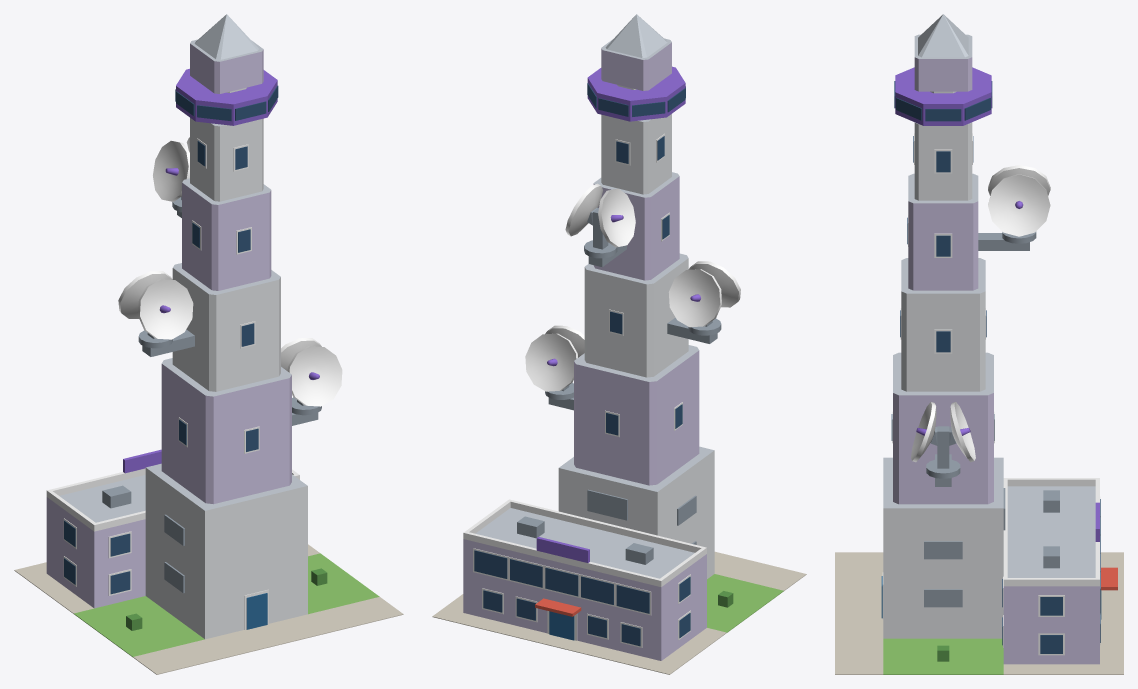
The model's file is blackouttower.glb.
The picture shows the model from 3 angles, left to right: view 1: azimuth 30°, elevation 25°; view 2: azimuth 150°, elevation 25°; view 3: azimuth 270°, elevation 25°; orthographic projection. The views are drawn at different scales.
Parts seen in each view (by area): view 1: tower_block1, tower_block2, tower_block3, dish (×4), tower_block4, paving (×2), grass (×2), control_building, tower_block5, glow_ring, tower_cap, control_roof (+8 smaller); view 2: tower_block2, control_building, dish (×5), tower_block3, tower_block1, paving (×3), control_roof, tower_block5, tower_block4, window_band (×5), parapet (×2), grass (+10 smaller); view 3: tower_block1, paving (×3), tower_block2, tower_block3, control_roof, control_building, tower_block4, dish (×4), grass, tower_block5, glow_ring, parapet (×3) (+11 smaller).
Boxes of the visible parts, x1,y1,x2,y2 form: tower_block1: (145,468,307,639); tower_block2: (161,364,291,504); tower_block3: (172,268,280,391); dish (×4): (118,140,342,406); tower_block4: (182,182,271,290); paving (×2): (26,573,403,674); grass (×2): (74,553,379,657); control_building: (46,497,145,608); tower_block5: (190,118,263,201); glow_ring: (176,68,277,125); tower_cap: (190,43,263,93); control_roof: (59,475,145,522); tower_block2: (574,350,699,485); control_building: (463,539,706,660); dish (×5): (525,183,740,391); tower_block3: (584,258,688,377); tower_block1: (558,450,714,578); paving (×3): (432,551,806,674); control_roof: (475,508,694,578); tower_block5: (601,114,671,194); tower_block4: (593,176,679,280); window_band (×5): (474,550,649,613); parapet (×2): (463,499,706,586); grass: (707,574,783,632); tower_block1: (883,508,1003,638); paving (×3): (835,552,1123,674); tower_block2: (893,393,993,504); tower_block3: (901,291,985,391); control_roof: (1007,486,1095,577); control_building: (1003,586,1099,664); tower_block4: (908,201,978,290); dish (×4): (911,165,1050,462); grass: (883,638,1003,674); tower_block5: (914,123,972,200); glow_ring: (895,67,991,125); parapet (×3): (1003,478,1095,586).
Size of the model in its own units: 24 by 55 by 24.
